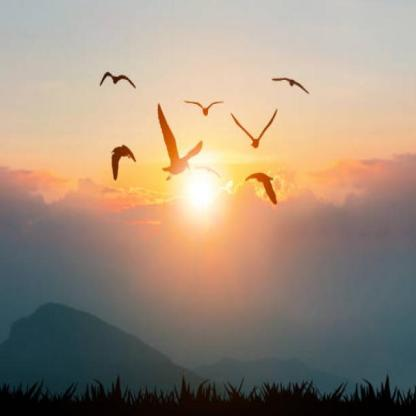bird: (155, 105, 206, 188), (240, 157, 283, 214), (229, 106, 280, 154), (182, 83, 228, 133), (92, 66, 142, 108), (105, 141, 150, 186), (271, 70, 318, 107), (193, 161, 228, 191)
